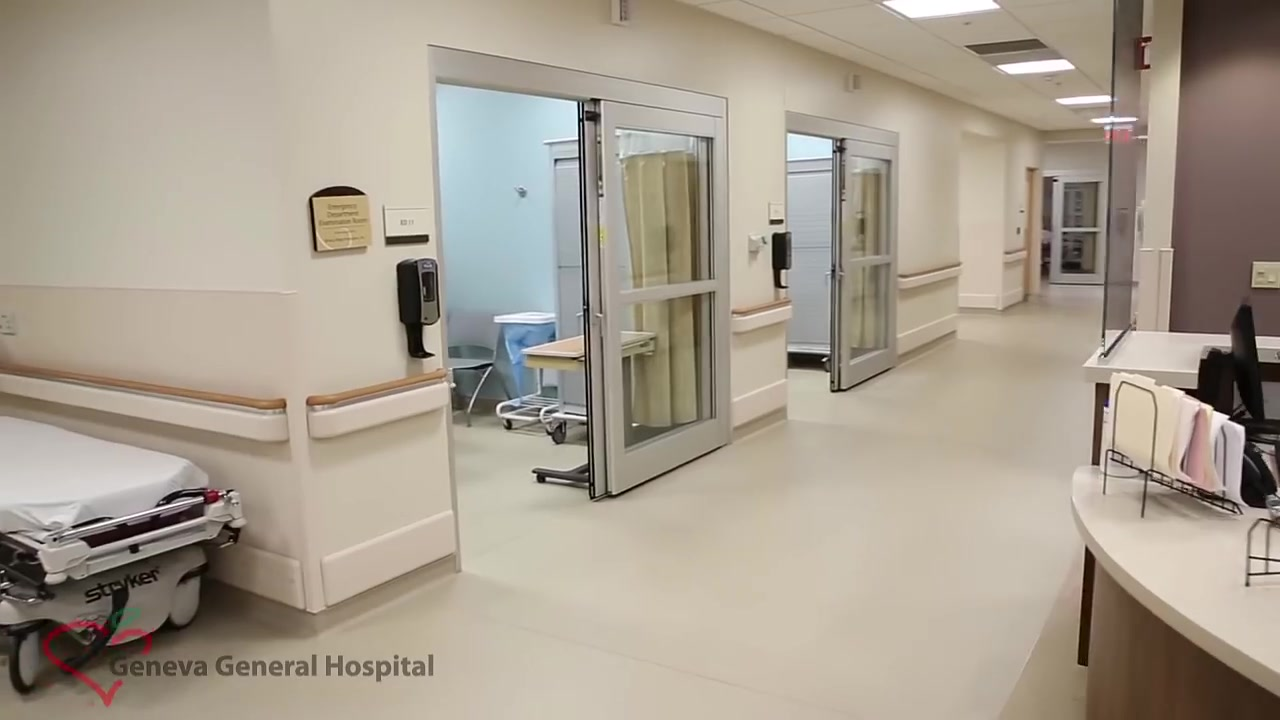chair: (448, 311, 497, 427)
computer: (1230, 305, 1265, 420)
countertop: (1070, 465, 1280, 698), (1087, 331, 1280, 381)
curtain: (620, 149, 700, 427), (847, 159, 889, 349)
dispenser: (396, 258, 440, 359), (772, 232, 791, 289)
door_handle: (596, 313, 607, 338), (576, 314, 585, 336), (823, 272, 831, 289)
hallway_assist_bar: (1, 361, 288, 447), (304, 367, 451, 441), (732, 297, 795, 336), (896, 261, 964, 291)
hospital_bed: (1, 417, 246, 694)
table: (527, 332, 655, 442)
waste_bin: (501, 308, 564, 437)
